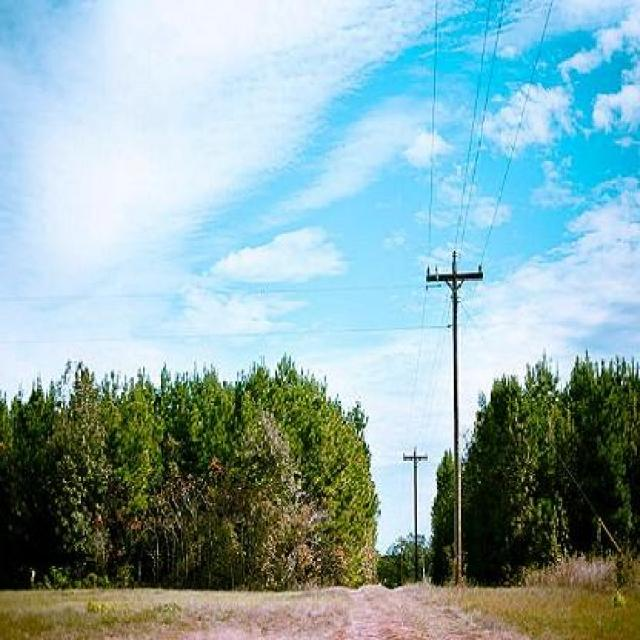pole: (417, 248, 505, 575)
